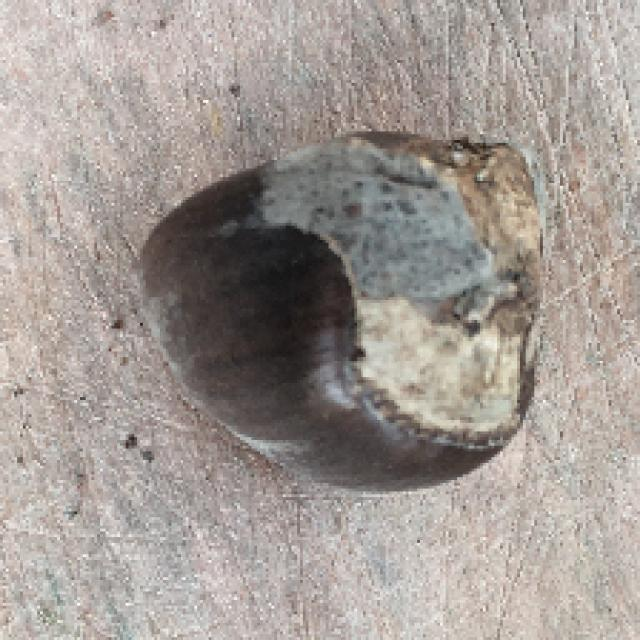damagedHazelnut: (130, 132, 558, 484)
